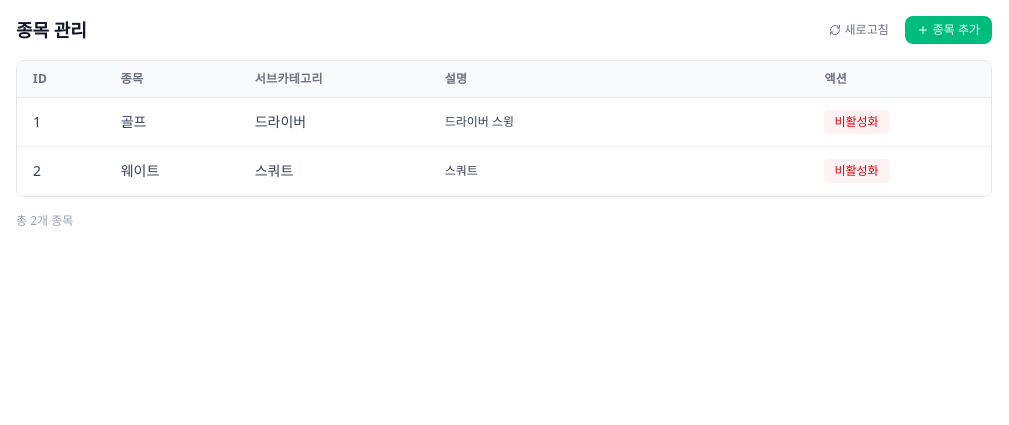
Test: AdminSportsPage › "취소" 버튼 클릭 시 추가 폼이 숨겨진다
The width and height of the screenshot is (1009, 425).
Expected: the text "골프" is shown, [105,98,239,146]
Click the button "종목 추가". click: (948, 30)
box: [905,16,992,44]
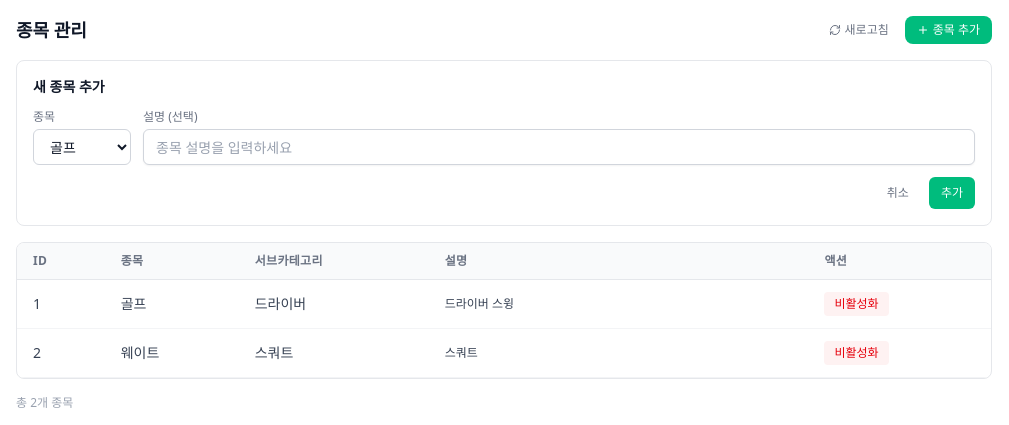
Result: the heading "새 종목 추가" is shown at [33,77,105,96]
Click the button "취소". click: (898, 193)
box: [875,179,921,207]
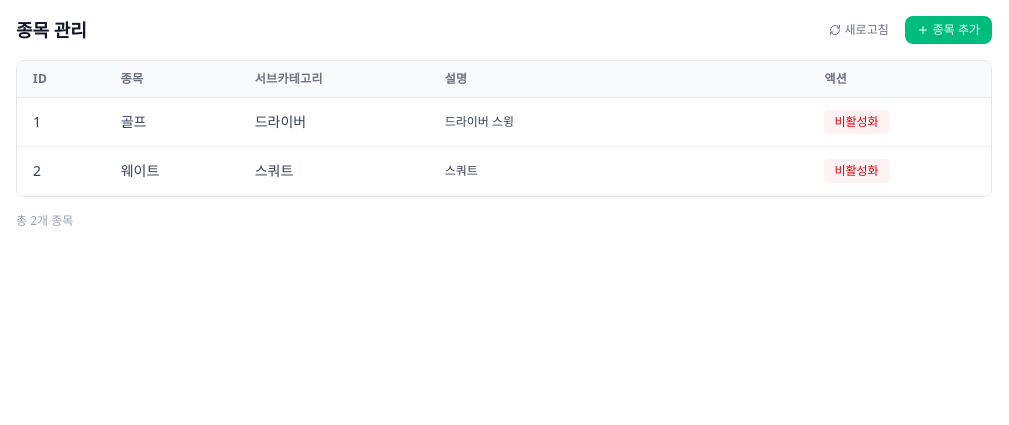
Result: the heading "새 종목 추가" is gone
